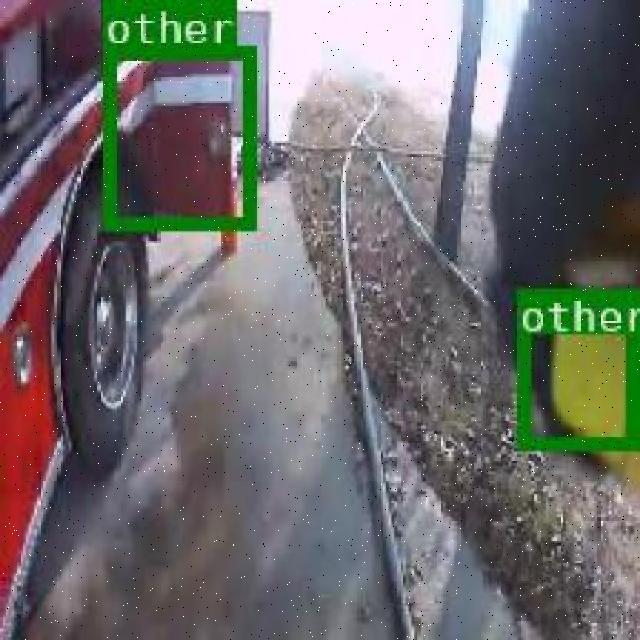other: (101, 43, 252, 228), (517, 288, 634, 447)
